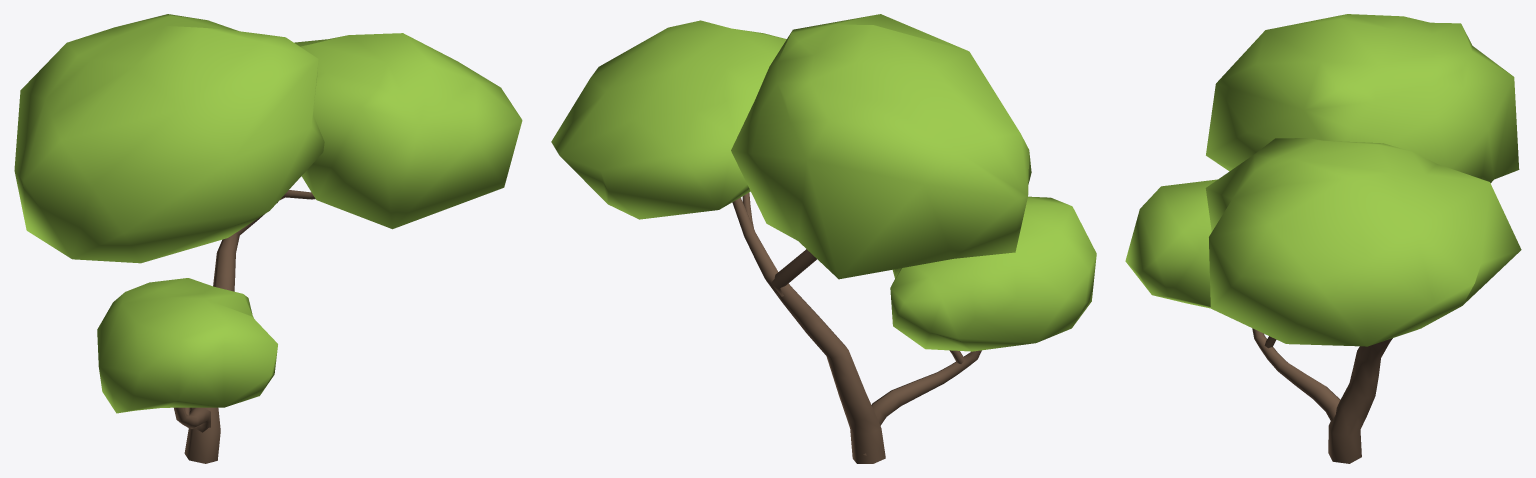
The model's file is tree_5.fbx.
3 views of the same model, side by side, from view 1: azimuth 30°, elevation 25°; view 2: azimuth 150°, elevation 25°; view 3: azimuth 270°, elevation 25° (orthographic).
Parts seen in each view (by area): view 1: Tube; view 2: Tube; view 3: Tube.
Part boxes in pixels (x1,y1,x2,y2): Tube: (14,14,522,463); Tube: (551,14,1096,463); Tube: (1125,14,1521,463).
Bounding box in the file's own units: 179 × 163 × 134.
